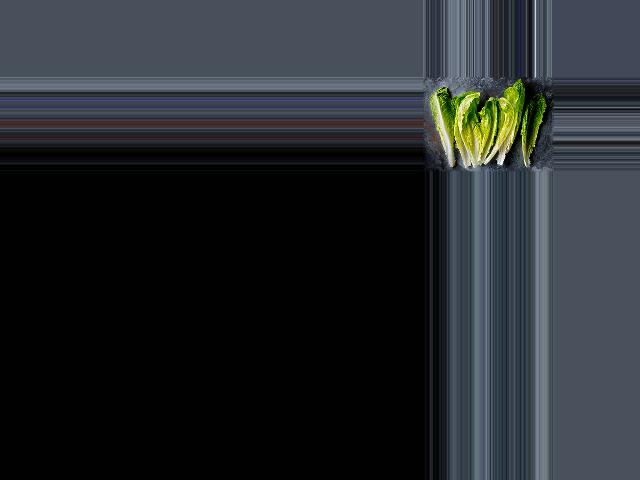lettuce: (519, 94, 544, 170)
